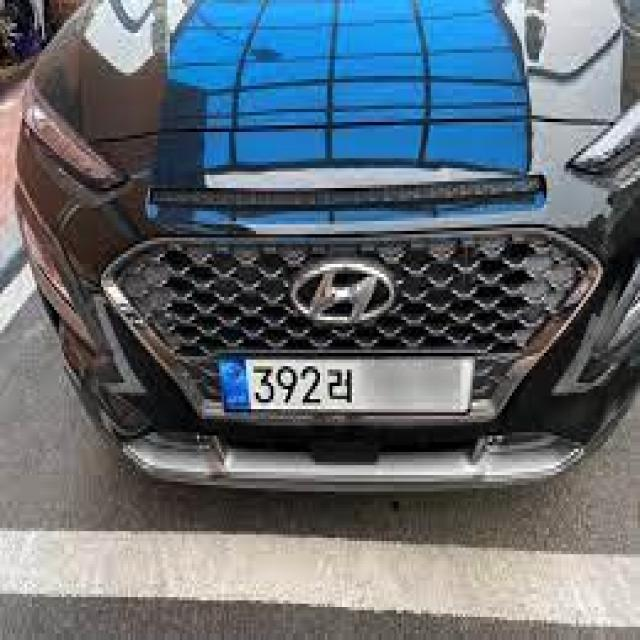illegal_plate: (211, 351, 467, 424)
